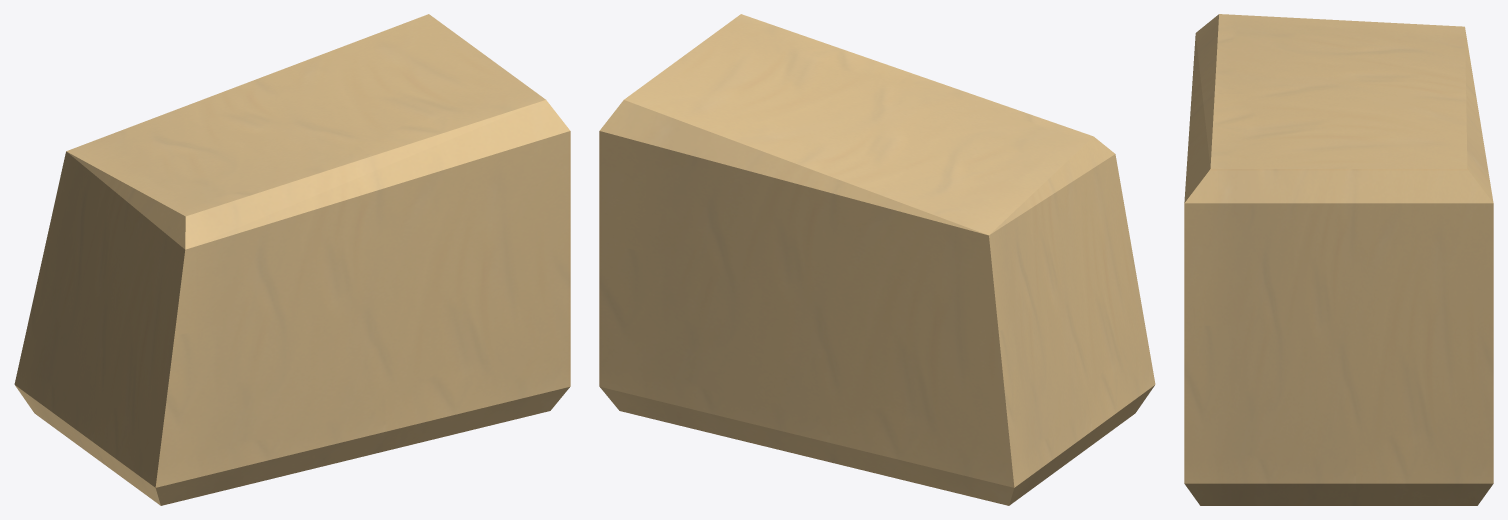
Rendered from BlockE.FBX.
3 renders of one model, left to right at view 1: azimuth 30°, elevation 25°; view 2: azimuth 150°, elevation 25°; view 3: azimuth 270°, elevation 25°, orthographic. The views are drawn at different scales.
Visible parts, largest first — view 1: BlockE; view 2: BlockE; view 3: BlockE.
Boxes of the visible parts, <box> form: BlockE: <box>14,14,570,505</box>; BlockE: <box>599,14,1155,505</box>; BlockE: <box>1184,14,1493,505</box>.
Bounding box in the file's own units: 8.49 × 5 × 6.01.
1 material, 1 textured.
